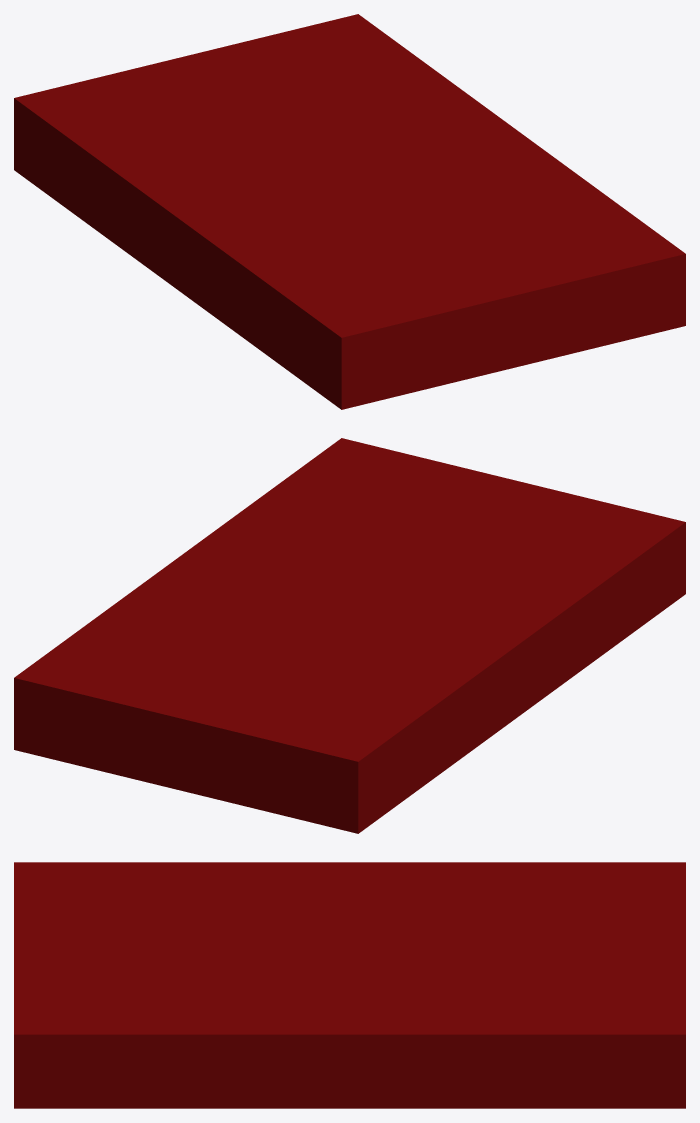
File: coffeeTable.fbx
The picture shows the model from 3 angles, top to bottom: view 1: azimuth 30°, elevation 25°; view 2: azimuth 150°, elevation 25°; view 3: azimuth 270°, elevation 25°; orthographic projection. The views are drawn at different scales.
Visible parts, largest first — view 1: coffeeTable_Col; view 2: coffeeTable_Col; view 3: coffeeTable_Col.
Boxes of the visible parts, <box> form: coffeeTable_Col: <box>14,14,685,409</box>; coffeeTable_Col: <box>14,438,685,833</box>; coffeeTable_Col: <box>14,862,685,1108</box>.
Bounding box in the file's own units: 125 × 25 × 206.
